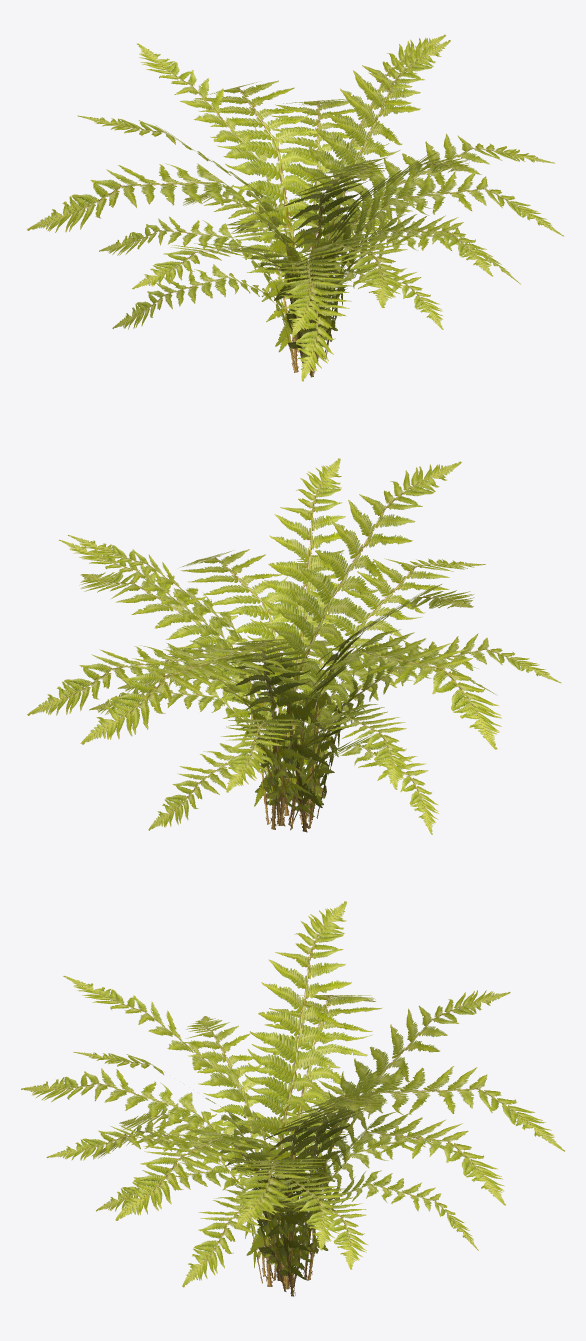
The model's file is tropical_fern.glb.
3 views of the same model, one above another, from view 1: azimuth 30°, elevation 25°; view 2: azimuth 150°, elevation 25°; view 3: azimuth 270°, elevation 25° (orthographic). The views are drawn at different scales.
Parts seen in each view (by area): view 1: Plant alpha 1; view 2: Plant alpha 1; view 3: Plant alpha 1.
Boxes of the visible parts, x1,y1,x2,y2 form: Plant alpha 1: [27, 34, 563, 381]; Plant alpha 1: [27, 458, 561, 834]; Plant alpha 1: [21, 901, 564, 1296].
Bounding box in the file's own units: 2.32 × 1.33 × 2.32.
1 material, 1 textured.
